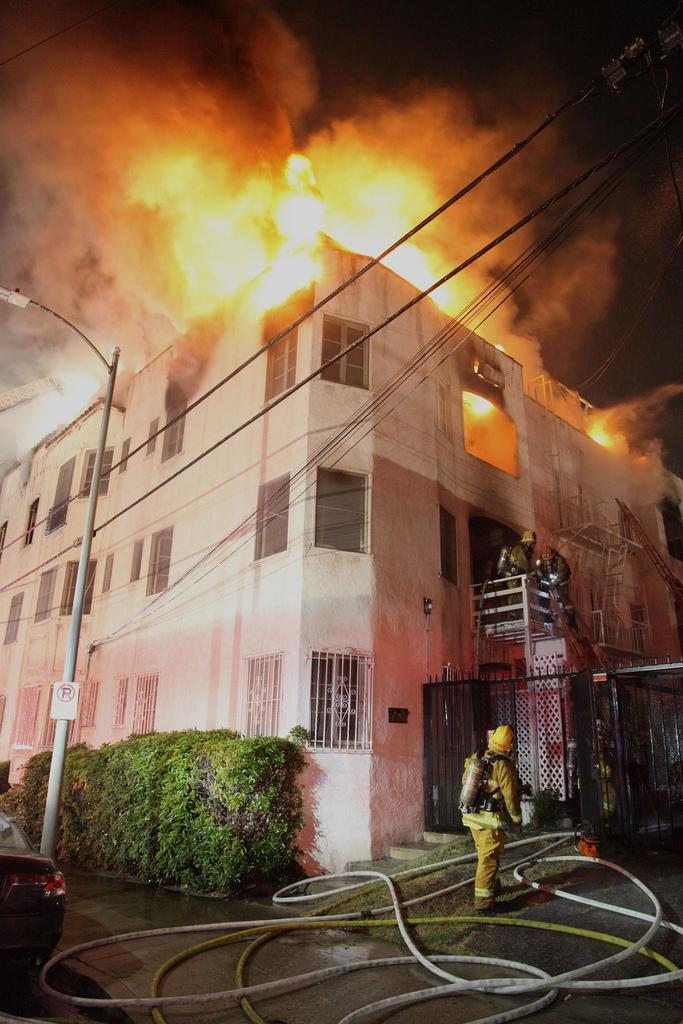fire: (130, 130, 278, 290), (338, 158, 433, 275)
